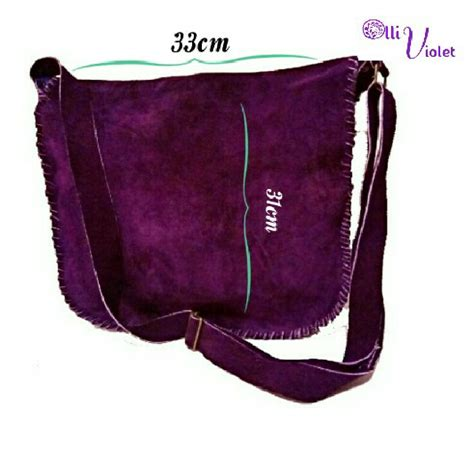gamuza: (33, 58, 357, 340)
